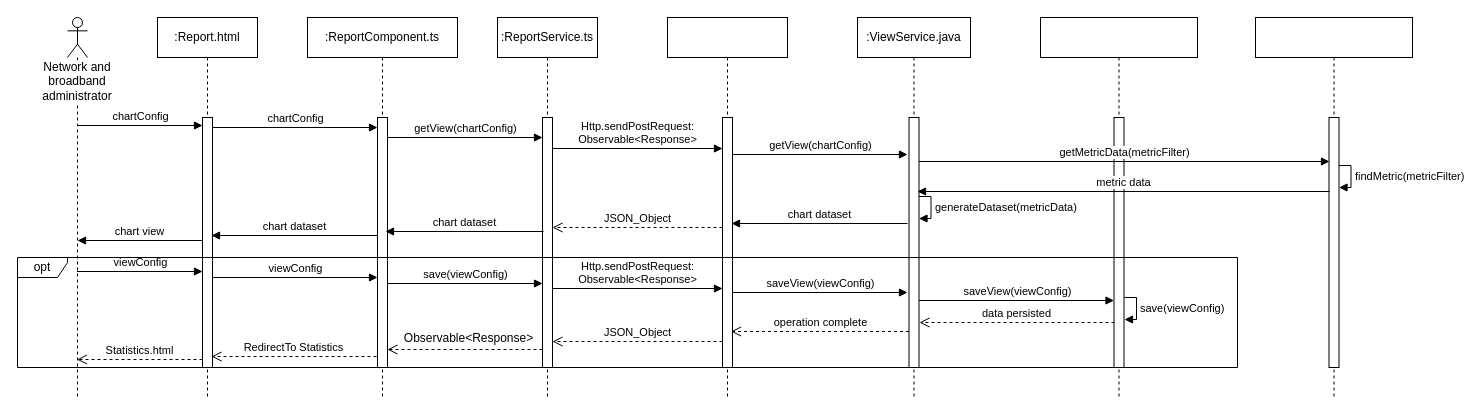
Some shapes in this 1481 by 415 pixel diagram are drawn without their labels. The shapes that lost their labels are listed below. From the top down, each one's box as (x1, y1, x2, y2) in pixels, then its label:
(666, 16, 788, 398): :ViewController.java
(1040, 16, 1198, 398): :ViewRepository.java
(1254, 16, 1412, 398): :MetricRepository.java
